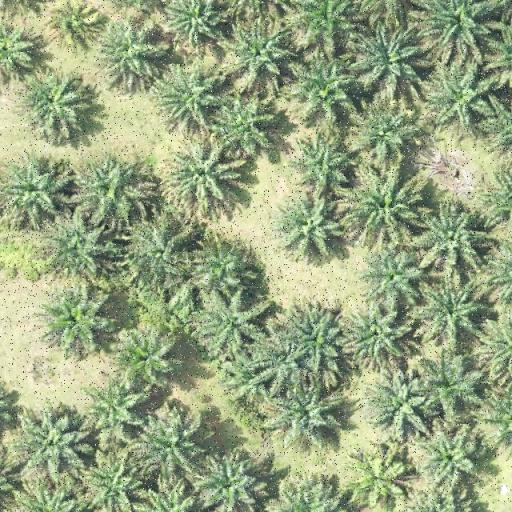Ganoderma: (50, 2, 92, 40)
